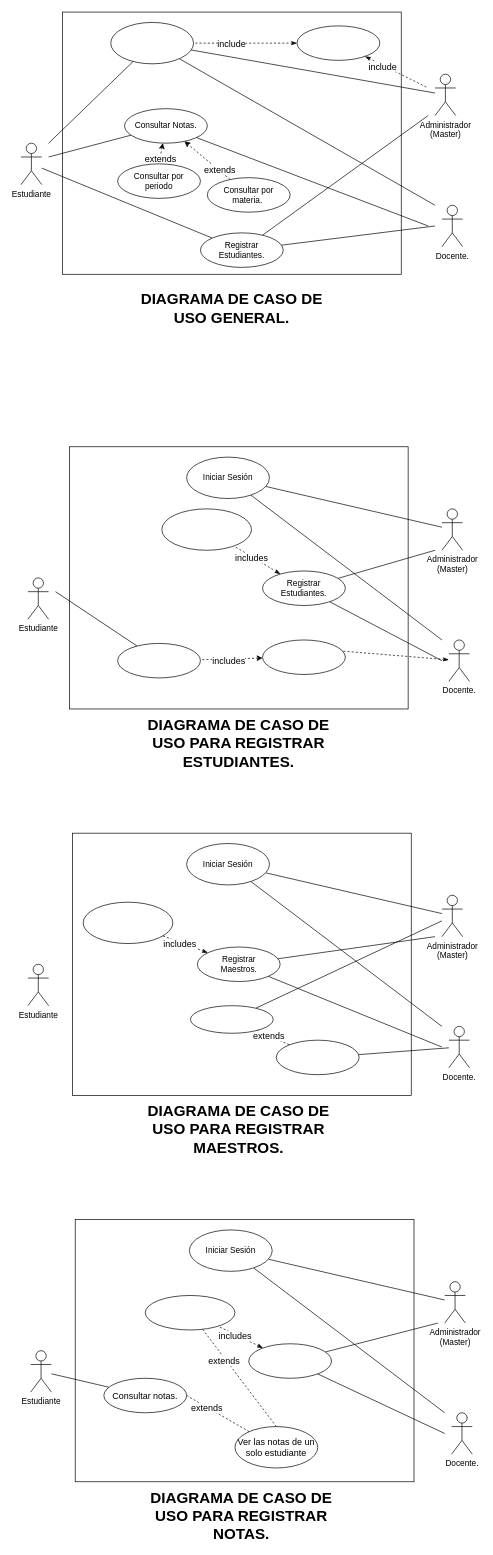
This 493x1555 diagram has some shape labels left out. Here are the shapes that lost their labels. From the top down, the centre of each, then its label:
At point (152, 43): "Iniciar Sesión (Nivel de usuario).".
At point (338, 42): "Registrar Porfesores.".
At point (206, 529): "Llenar formulario para crear estudiante".
At point (158, 660): "Obtener Credenciales".
At point (303, 656): "Crear usuario nivel estudiante.".
At point (127, 922): "Llenar formulario para crear maestro".
At point (231, 1019): "Crear usuario maestro".
At point (317, 1057): "Obtener Credenciales.".
At point (190, 1312): "Asignar nota".
At point (290, 1360): "Selecciona materia, periodo.".
